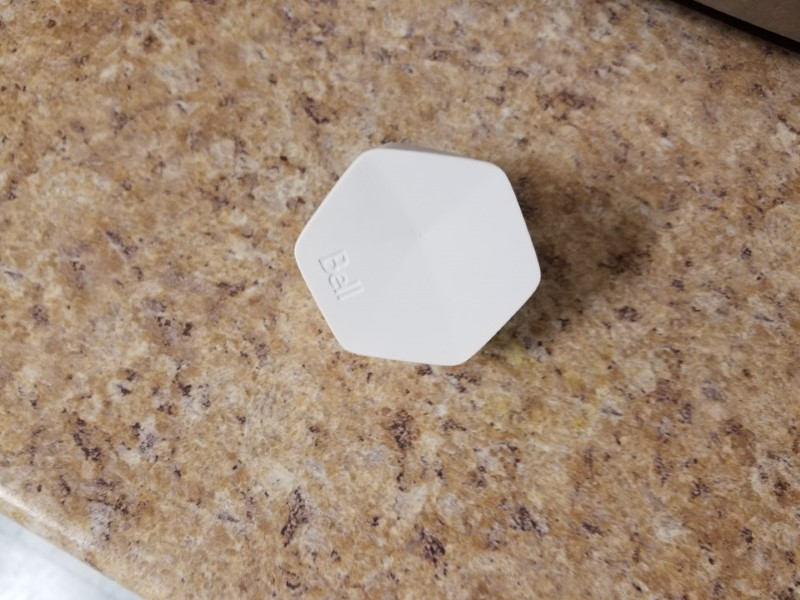pod: (286, 137, 552, 380)
